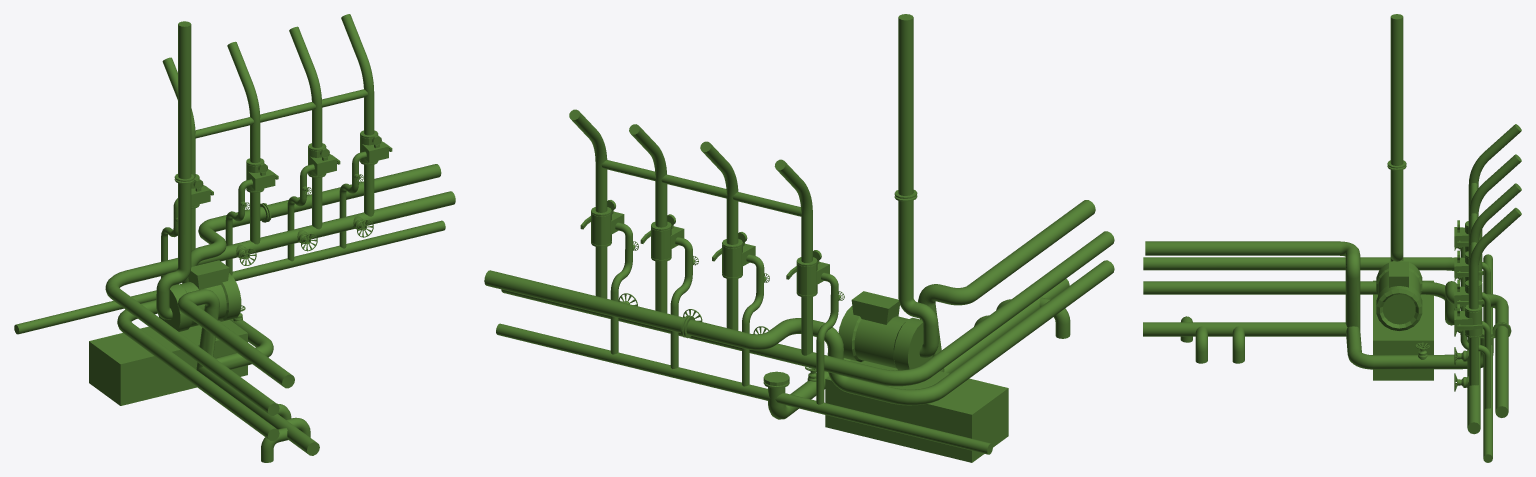
File: pipefacto.fbx
3 renders of one model, left to right at view 1: azimuth 30°, elevation 25°; view 2: azimuth 150°, elevation 25°; view 3: azimuth 270°, elevation 25°, orthographic. The views are drawn at different scales.
Visible parts, largest first — view 1: Line011; view 2: Line011; view 3: Line011.
Boxes of the visible parts, x1,y1,x2,y2 form: Line011: [14, 14, 455, 462]; Line011: [484, 14, 1114, 462]; Line011: [1143, 14, 1521, 462].
Size of the model in its own units: 5.57 by 4.4 by 4.44.
